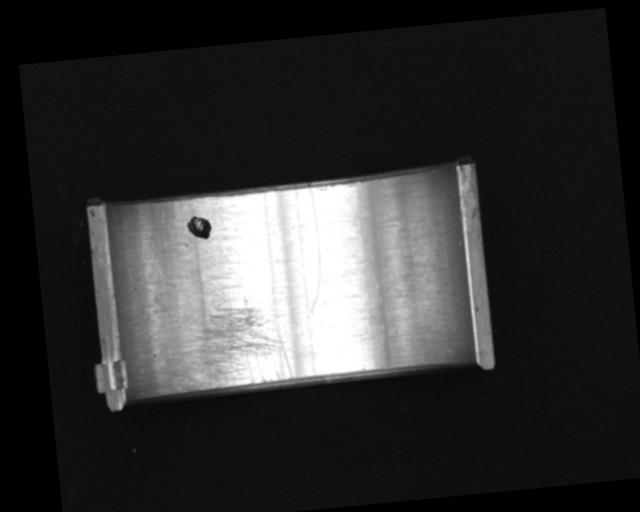blot: (184, 213, 214, 242)
nick: (296, 183, 327, 316)
scratch: (166, 290, 294, 393)
